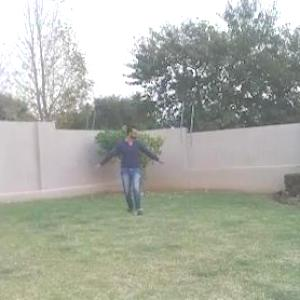land: (85, 99, 166, 229)
